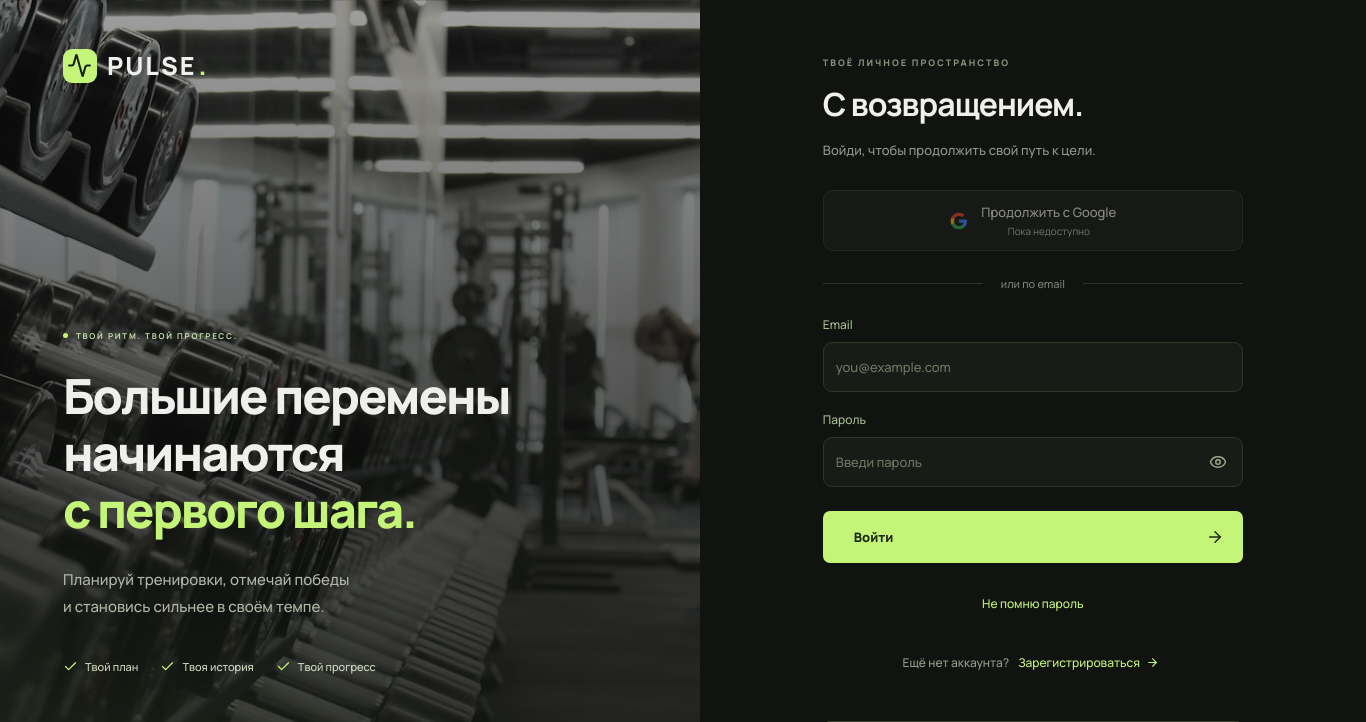
Test: requests password recovery without asking for the old password
This screenshot has width=1366, height=722.
Expected: the heading "С возвращением." is shown, [823,82,1083,126]
Click the button "Не помню пароль" at (1033, 604), box [978,585,1088,622]
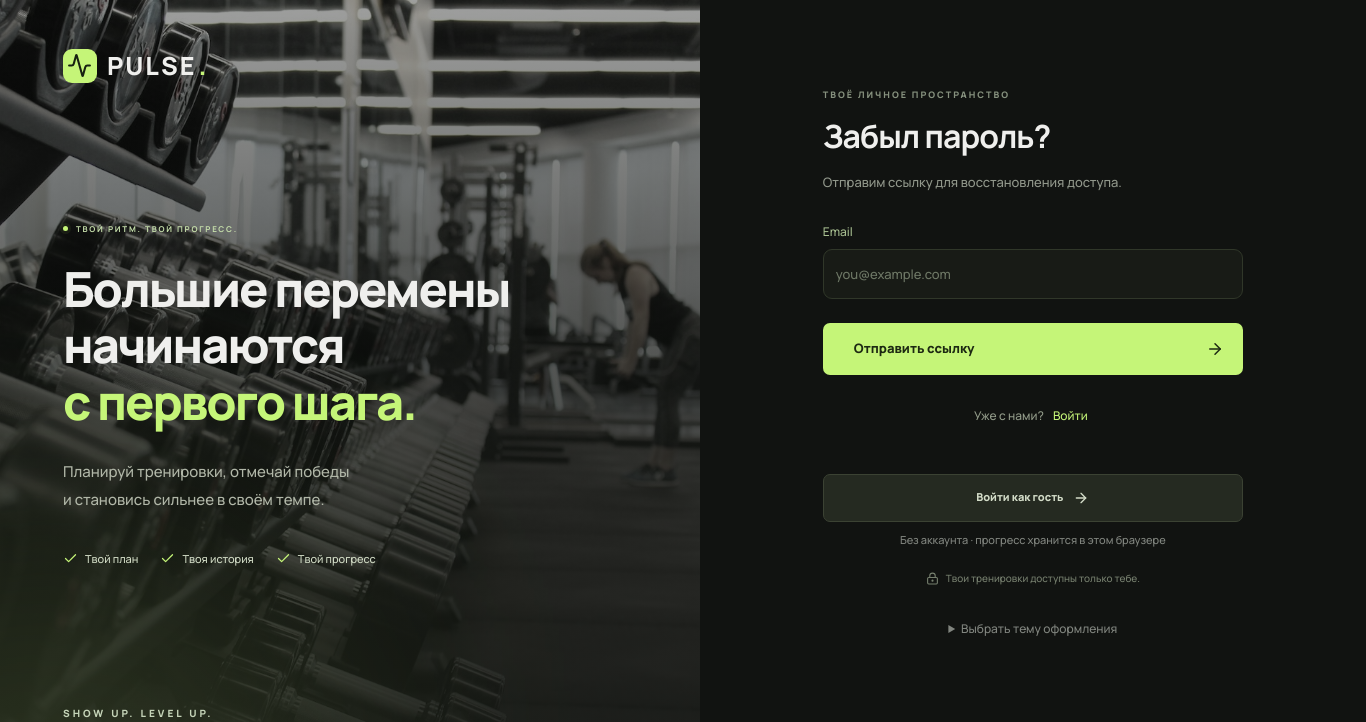
Type "one@example.com" into the field labelled "Email" at (1033, 274), box [823,249,1243,299]
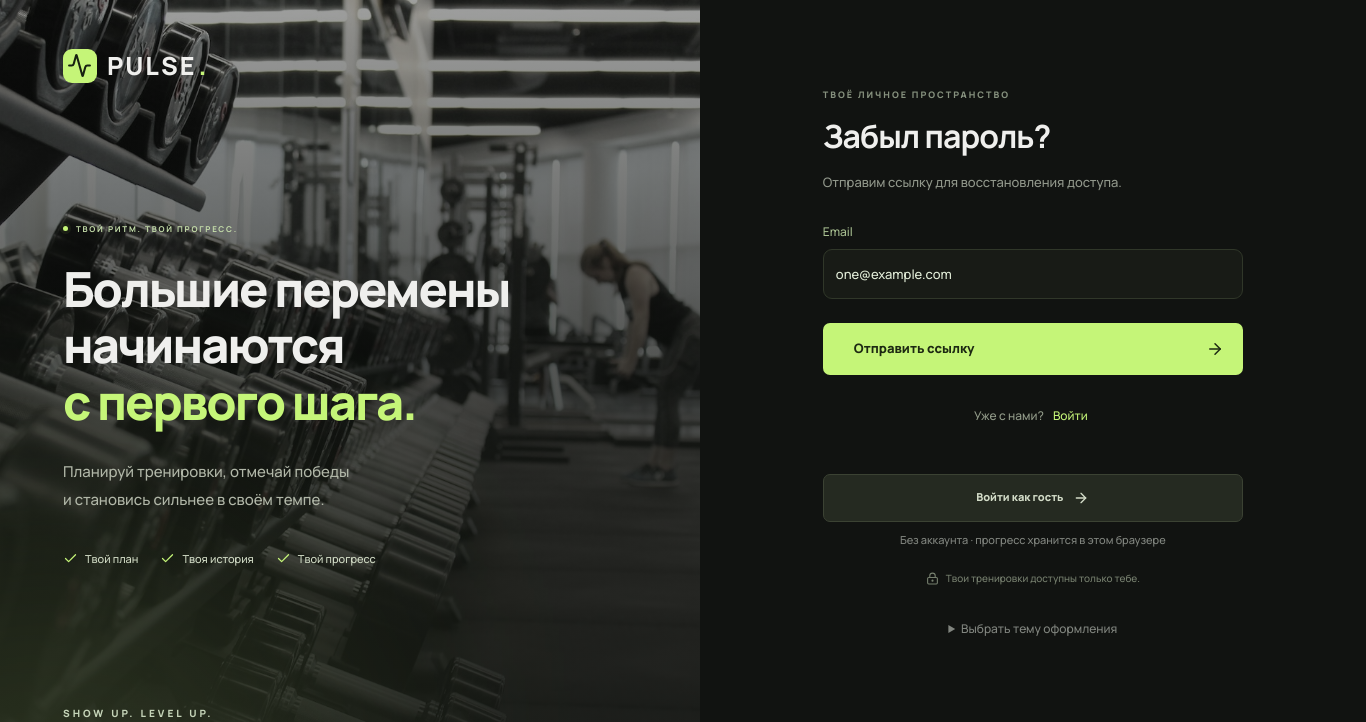
Click the button "Отправить ссылку" at (914, 348), box [823,323,1243,375]
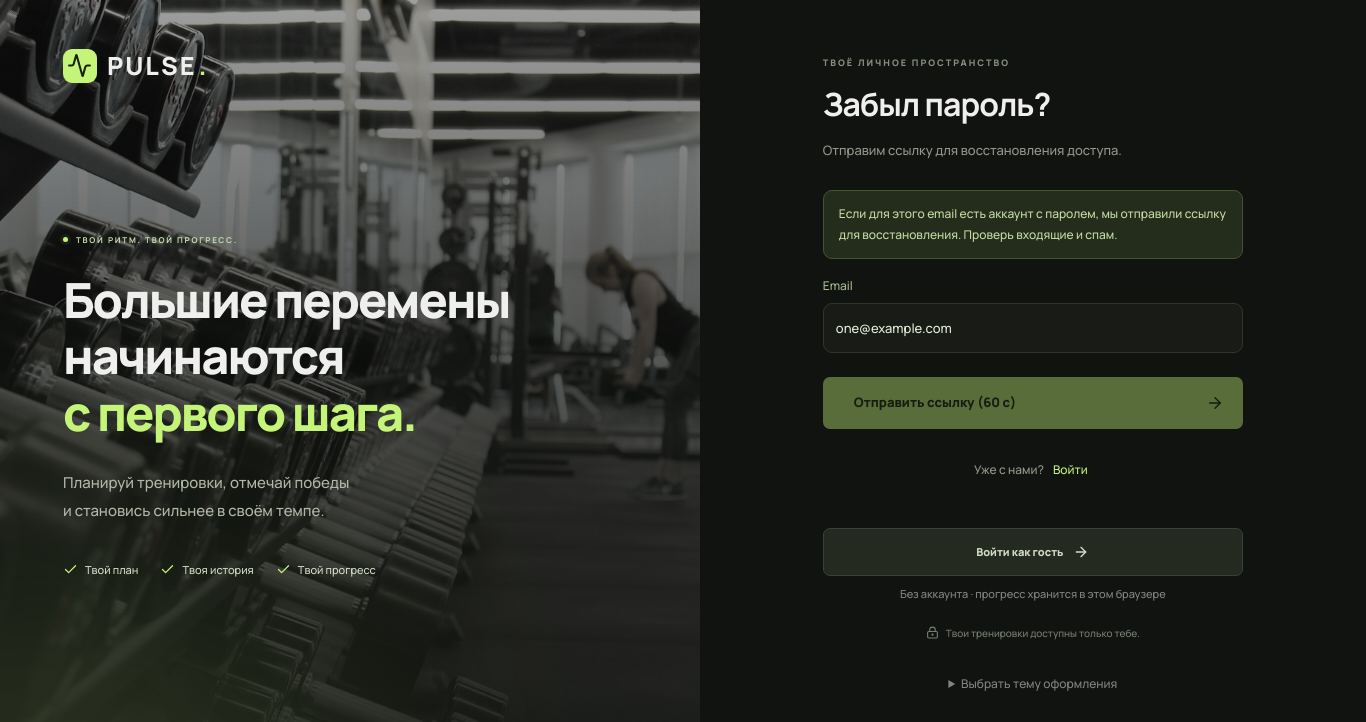
Now the message shows "Если для этого email", box [839,205,1226,243]
